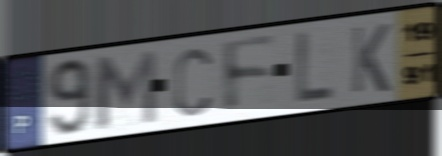9: (45, 55, 93, 139)
C: (171, 45, 213, 120)
F: (220, 34, 280, 118)
K: (349, 21, 392, 96)
L: (293, 28, 336, 105)
M: (91, 47, 159, 132)
